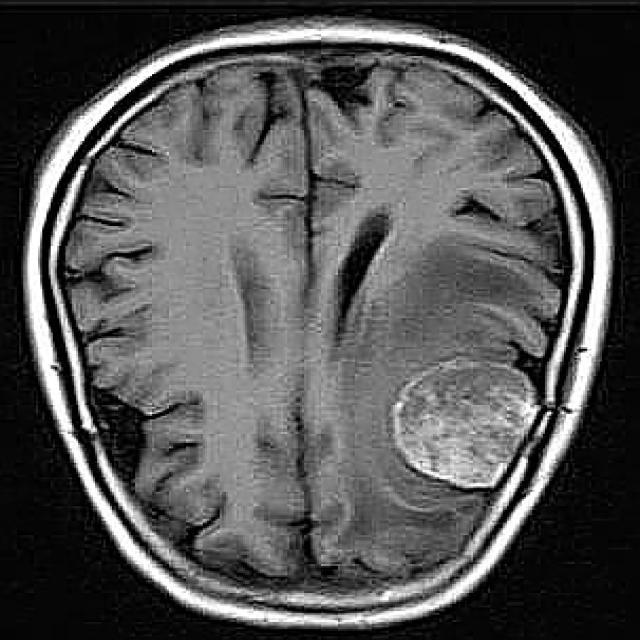Tumor-Cell: (392, 356, 538, 479)
